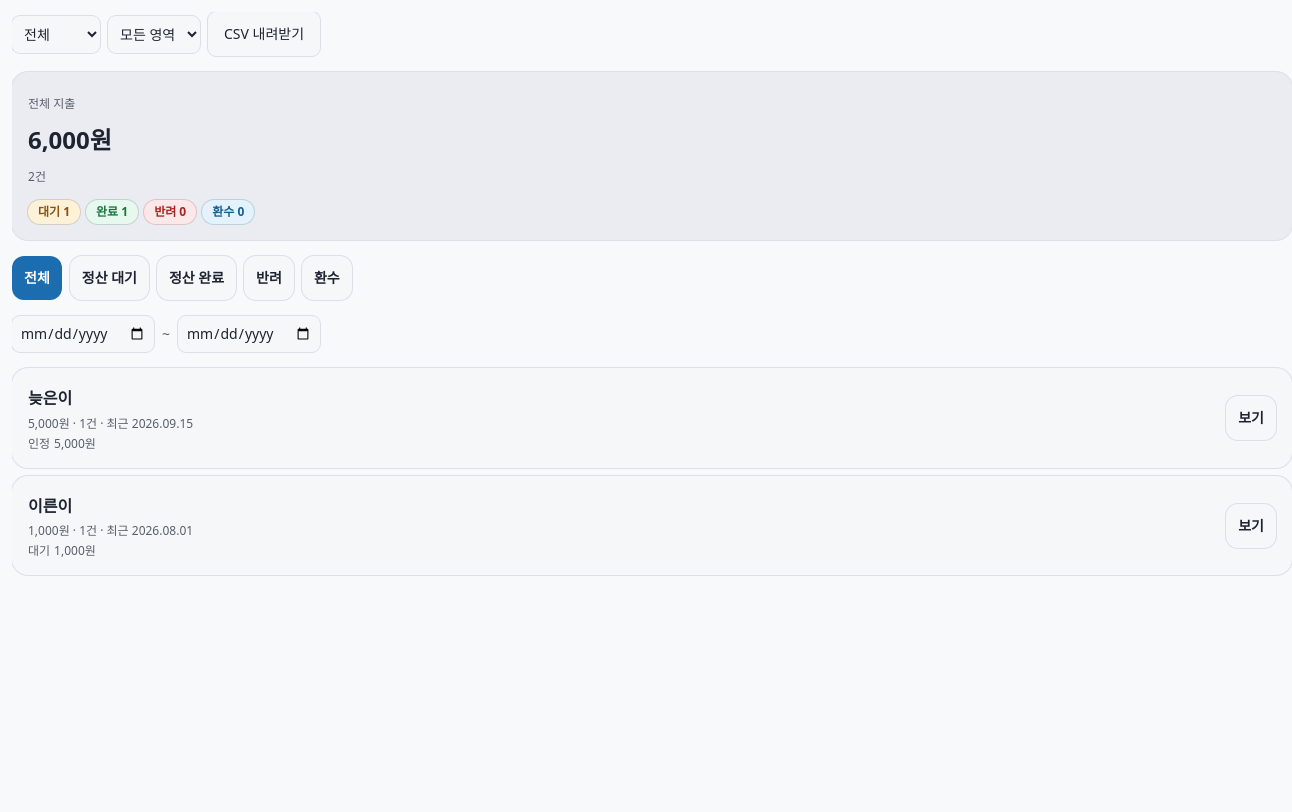
Test: OrgLedgerClient — 기간 필터 + 참여자 상태 내역 (A4) › 종료일을 설정하면 그 이후 지출만 있는 참여자가 사라진다
The width and height of the screenshot is (1292, 812).
Type "2026-08-31" into the date field named "종료일" at (249, 334), box [178,316,320,352]
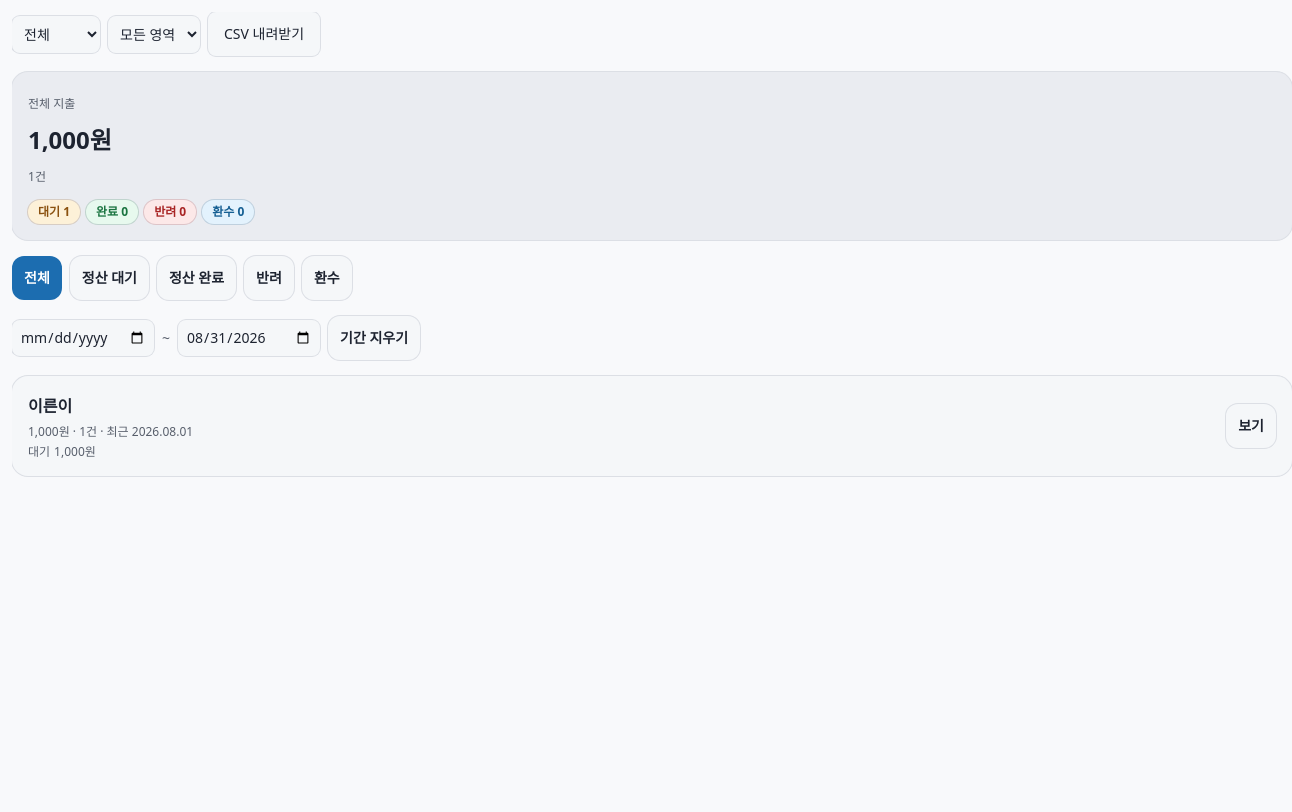
Expected: the text "이른이" is shown, [28,395,72,417]
Now the button "늦은이" is gone
